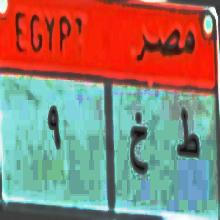9: (42, 94, 64, 162)
Taa: (175, 103, 201, 175)
khaa: (128, 107, 149, 182)
